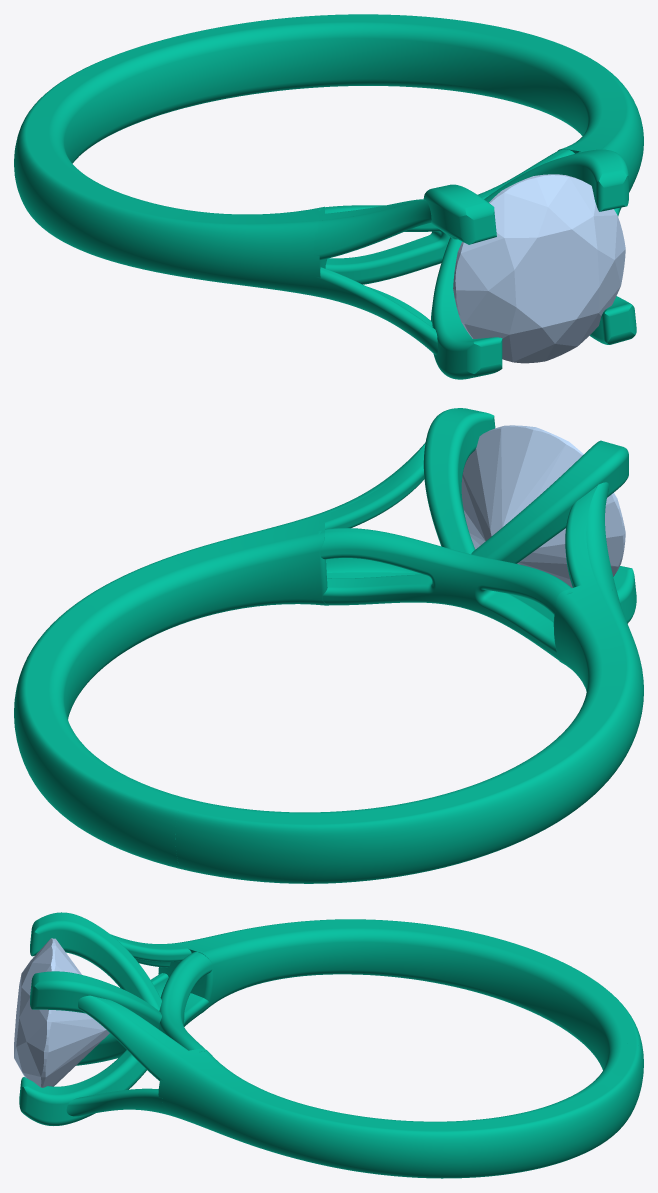
The picture shows the model from 3 angles, top to bottom: view 1: azimuth 30°, elevation 25°; view 2: azimuth 150°, elevation 25°; view 3: azimuth 270°, elevation 25°; orthographic projection. The views are drawn at different scales.
Visible parts, largest first — view 1: VR-108(base).3dm, Diamond_Round; view 2: VR-108(base).3dm, Diamond_Round; view 3: VR-108(base).3dm, Diamond_Round.
Boxes of the visible parts, bbox=[...] form: VR-108(base).3dm: bbox=[14, 14, 643, 379]; Diamond_Round: bbox=[453, 174, 625, 363]; VR-108(base).3dm: bbox=[14, 408, 643, 883]; Diamond_Round: bbox=[461, 425, 625, 587]; VR-108(base).3dm: bbox=[19, 912, 643, 1178]; Diamond_Round: bbox=[14, 938, 109, 1087].
Size of the model in its own units: 2.48 by 0.7904 by 3.03.
